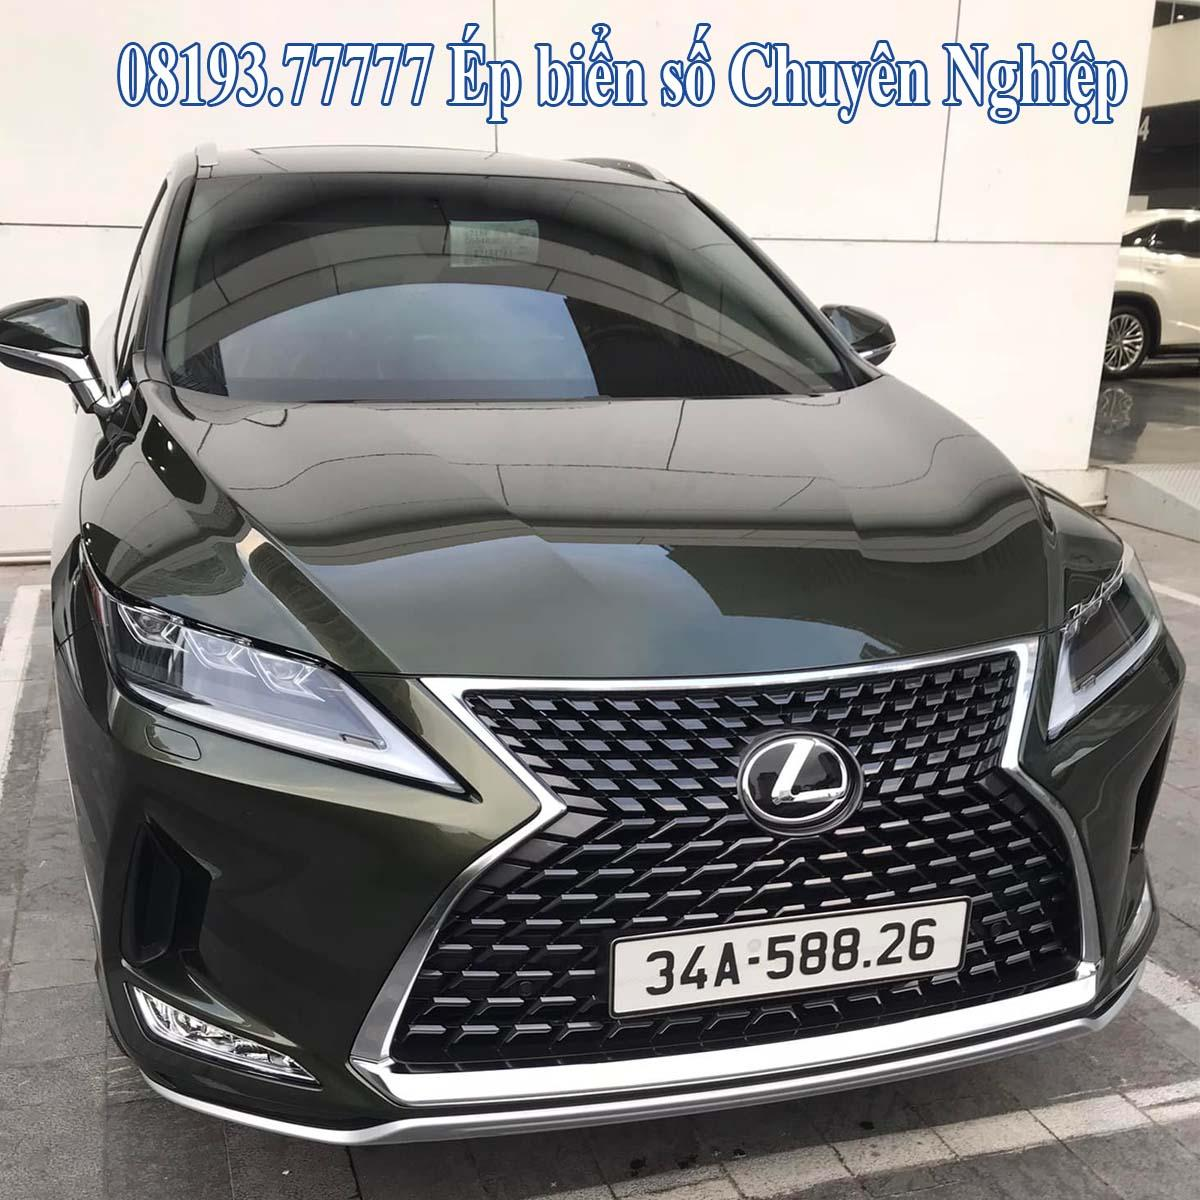numplate: (601, 890, 968, 1024)
